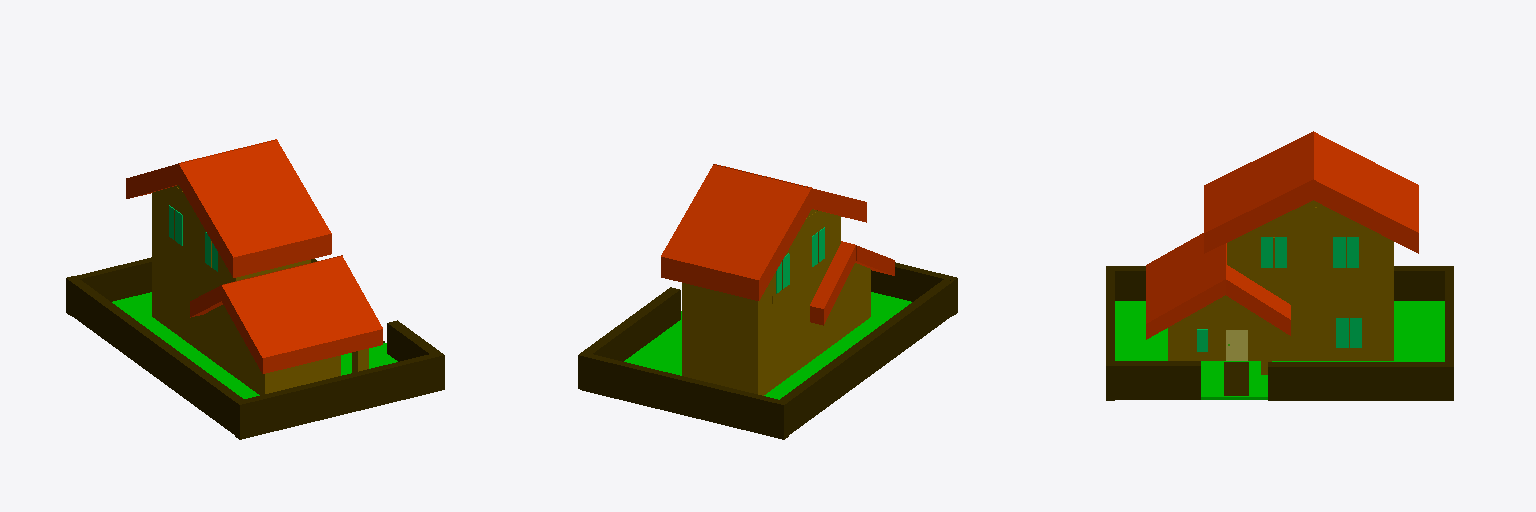
File: house_orange.obj
3 views of the same model, side by side, from view 1: azimuth 30°, elevation 25°; view 2: azimuth 150°, elevation 25°; view 3: azimuth 270°, elevation 25° (orthographic).
Visible parts, largest first — view 1: Cube.001; view 2: Cube.001; view 3: Cube.001.
Boxes of the visible parts, <box> form: Cube.001: <box>66,139,444,439</box>; Cube.001: <box>578,164,957,439</box>; Cube.001: <box>1106,131,1453,400</box>.
Size of the model in its own units: 13.99 by 12.33 by 20.41.